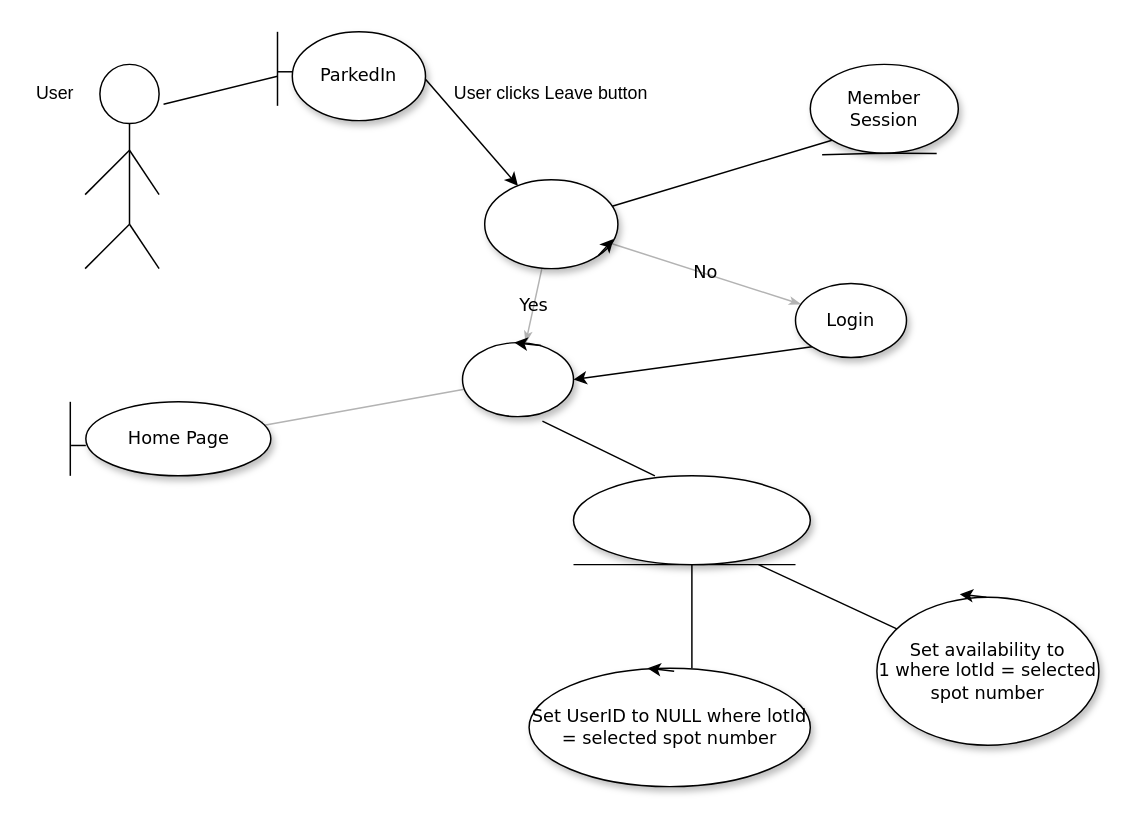
Some shapes in this 1134 by 823 pixel diagram are drawn without their labels. The shapes that lost their labels are listed below. From the top down, each one's centre as x and y in pixels, then its label:
At [552,225]: "User Logged in?".
At [518,381]: "Display".
At [692,521]: "Lot".
